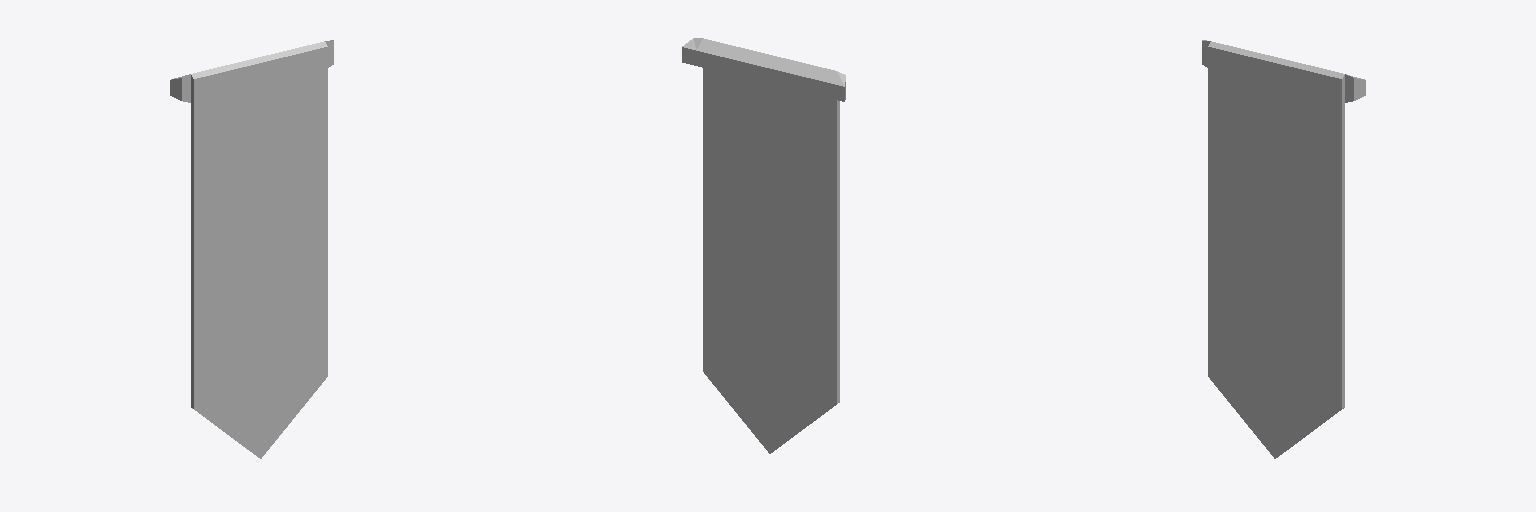
Rendered from flag_blue.obj.
3 renders of one model, left to right at view 1: azimuth 30°, elevation 25°; view 2: azimuth 150°, elevation 25°; view 3: azimuth 330°, elevation 25°, orthographic.
Visible parts, largest first — view 1: pasted__flag_blue group; view 2: pasted__flag_blue group; view 3: pasted__flag_blue group.
Boxes of the visible parts, x1,y1,x2,y2 form: pasted__flag_blue group: [170, 40, 333, 458]; pasted__flag_blue group: [682, 38, 845, 453]; pasted__flag_blue group: [1202, 40, 1365, 458].
Size of the model in its own units: 6.46 by 15.12 by 0.6634.